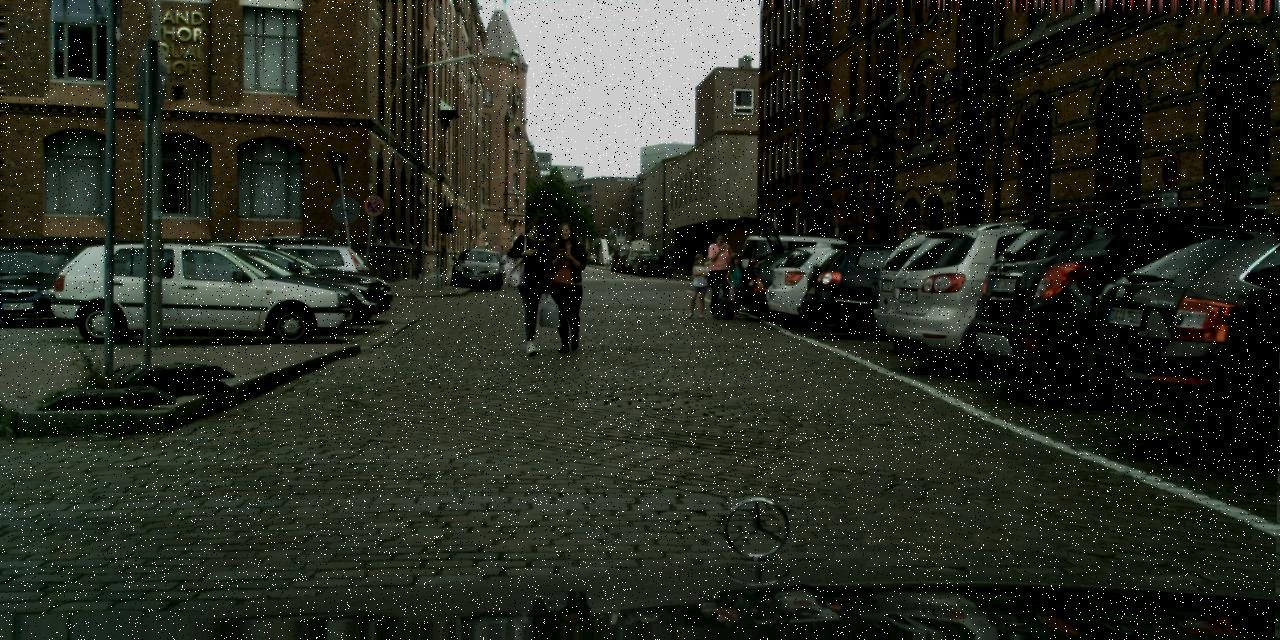ped: (507, 214, 565, 354), (541, 221, 593, 350), (703, 232, 738, 316), (684, 252, 710, 318), (721, 253, 746, 316)
